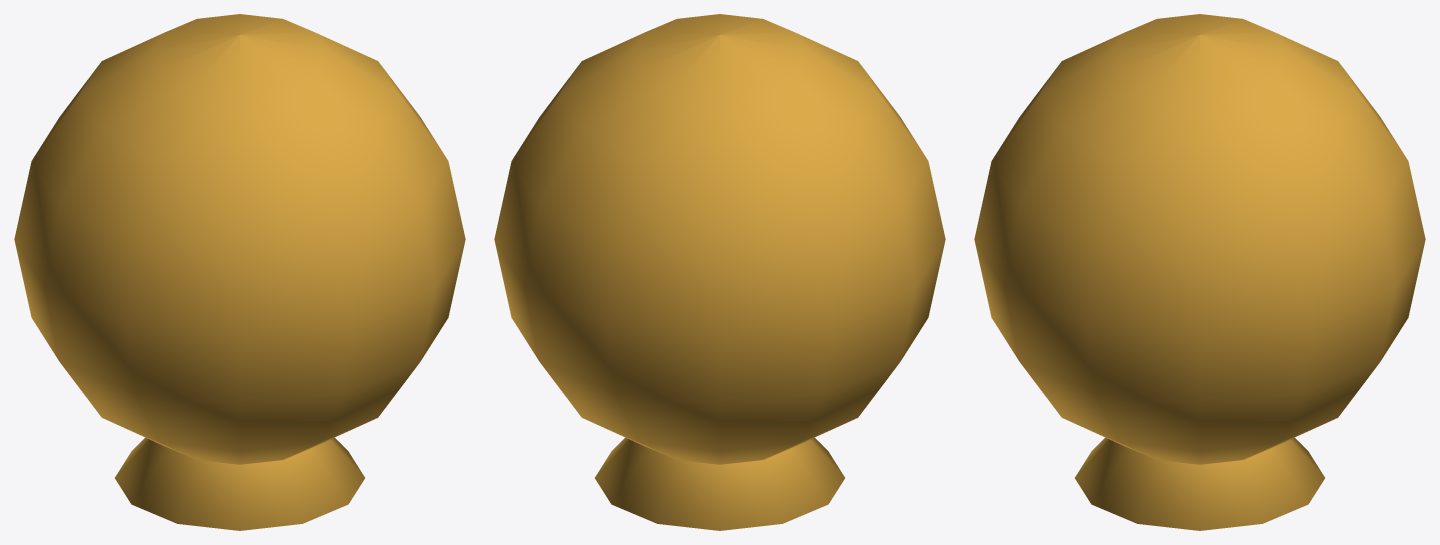
Rendered from resin.obj.
3 renders of one model, left to right at view 1: azimuth 30°, elevation 25°; view 2: azimuth 150°, elevation 25°; view 3: azimuth 270°, elevation 25°, orthographic.
Bounding box in the file's own units: 2.88 × 3.12 × 2.88.
